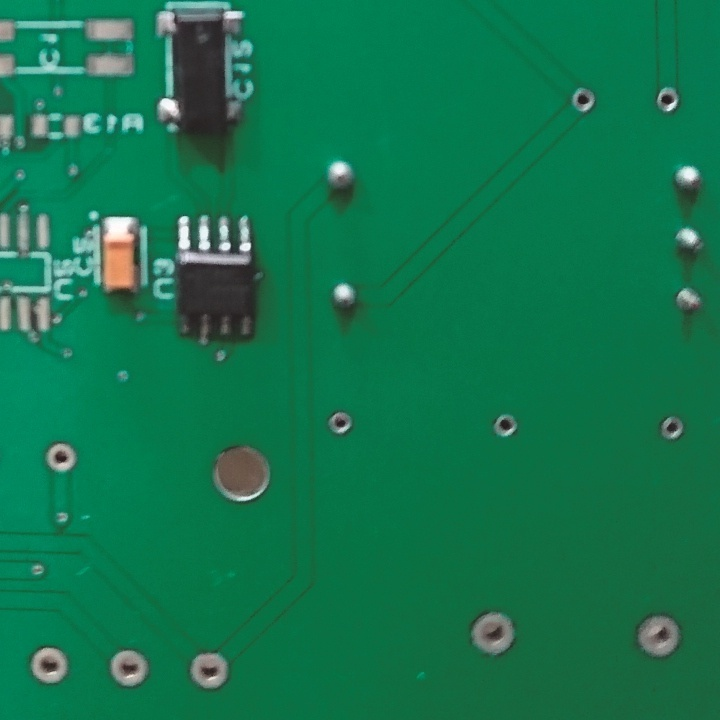F: (469, 609, 521, 661), (636, 612, 682, 662), (187, 649, 231, 690), (27, 645, 70, 686), (110, 648, 150, 689), (43, 443, 79, 476), (674, 283, 704, 318), (570, 83, 597, 114), (656, 86, 682, 115), (493, 410, 519, 439), (328, 409, 353, 439), (659, 415, 684, 443)
